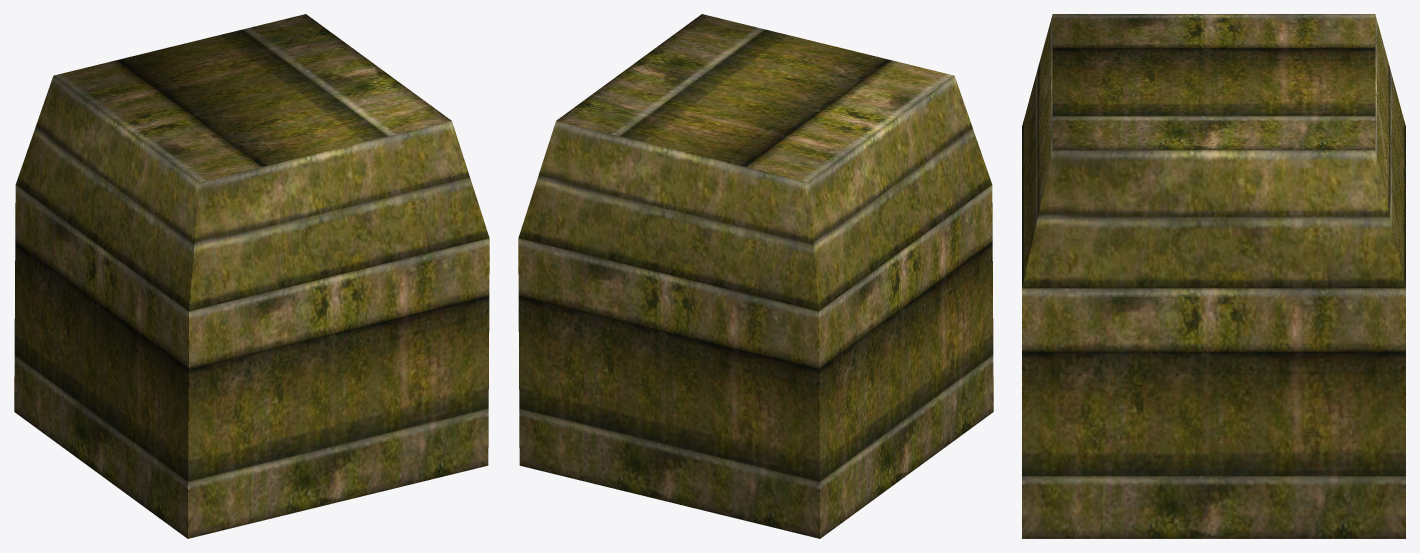
File: OVERHILL_A_01_OBJECT237.fbx
3 views of the same model, side by side, from view 1: azimuth 30°, elevation 25°; view 2: azimuth 150°, elevation 25°; view 3: azimuth 270°, elevation 25° (orthographic). The views are drawn at different scales.
Visible parts, largest first — view 1: OVERHILL_A_01_OBJECT237; view 2: OVERHILL_A_01_OBJECT237; view 3: OVERHILL_A_01_OBJECT237.
Part boxes in pixels (left/top/right/bottom): OVERHILL_A_01_OBJECT237: left=14, top=14, right=489, bottom=538; OVERHILL_A_01_OBJECT237: left=518, top=14, right=993, bottom=538; OVERHILL_A_01_OBJECT237: left=1022, top=14, right=1405, bottom=538.
Size of the model in its own units: 11476 by 12361 by 11426.
2 materials, 2 textured.
